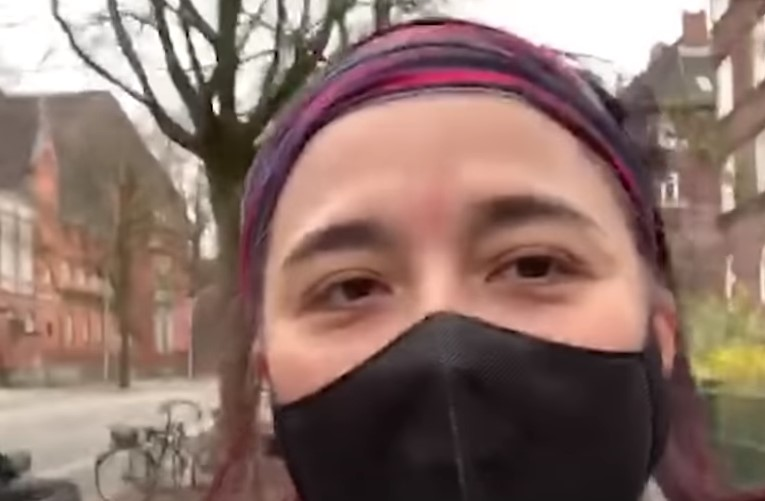face_with_mask: (237, 23, 682, 498)
